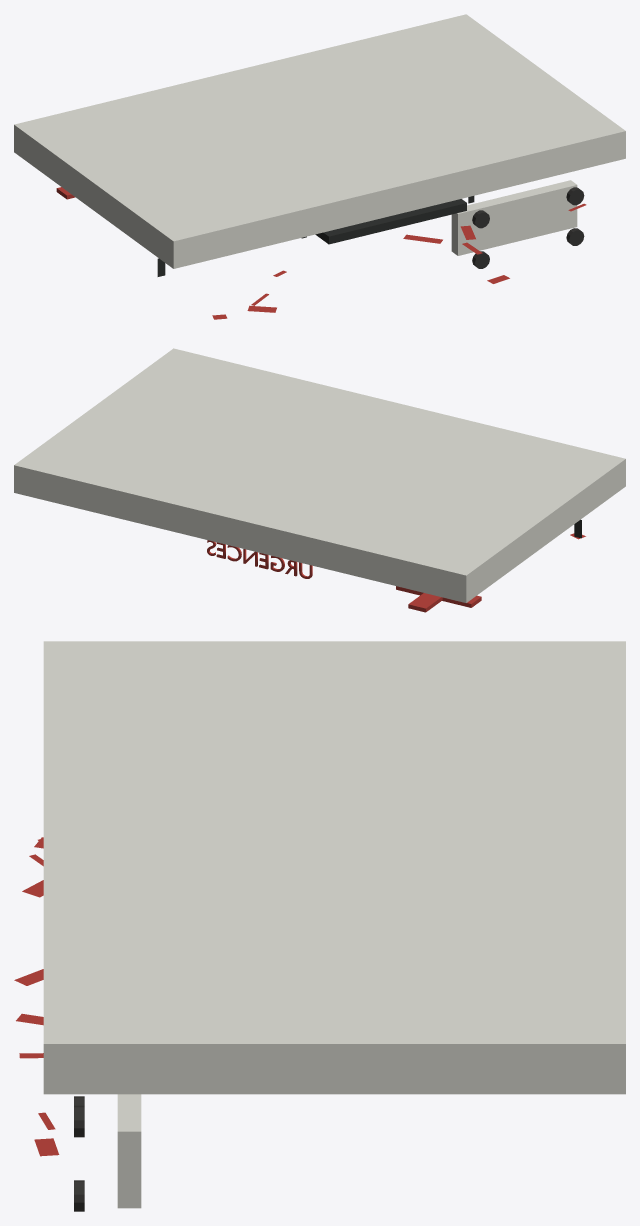
The model's file is dz_real_hospital_triage_entry.glb.
3 views of the same model, one above another, from view 1: azimuth 30°, elevation 25°; view 2: azimuth 150°, elevation 25°; view 3: azimuth 270°, elevation 25° (orthographic). The views are drawn at different scales.
Parts seen in each view (by area): view 1: hospital triage wall, stretcher cloth, hospital dark corridor; view 2: hospital triage wall, urgences sign, red cross vertical; view 3: hospital triage wall, stretcher cloth.
Part boxes in pixels (box(x1,y1,x2,y2)): hospital triage wall: box(14, 14, 625, 268); stretcher cloth: box(451, 180, 577, 255); hospital dark corridor: box(315, 199, 466, 244); hospital triage wall: box(14, 348, 625, 602); urgences sign: box(207, 540, 312, 578); red cross vertical: box(408, 593, 442, 612); hospital triage wall: box(43, 641, 625, 1094); stretcher cloth: box(117, 1094, 141, 1208).
Bounding box in the file's own units: 7.2 × 1.8 × 4.62.
